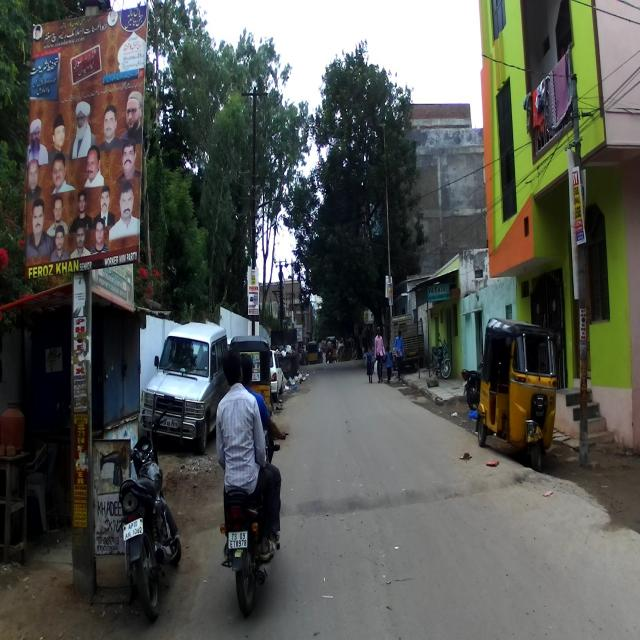Car_Toyota: (142, 320, 229, 456)
autorickshaw: (473, 315, 560, 471)
motorcycle_Honda: (119, 405, 182, 623)
motorcycle_bajaj: (220, 428, 288, 617)
